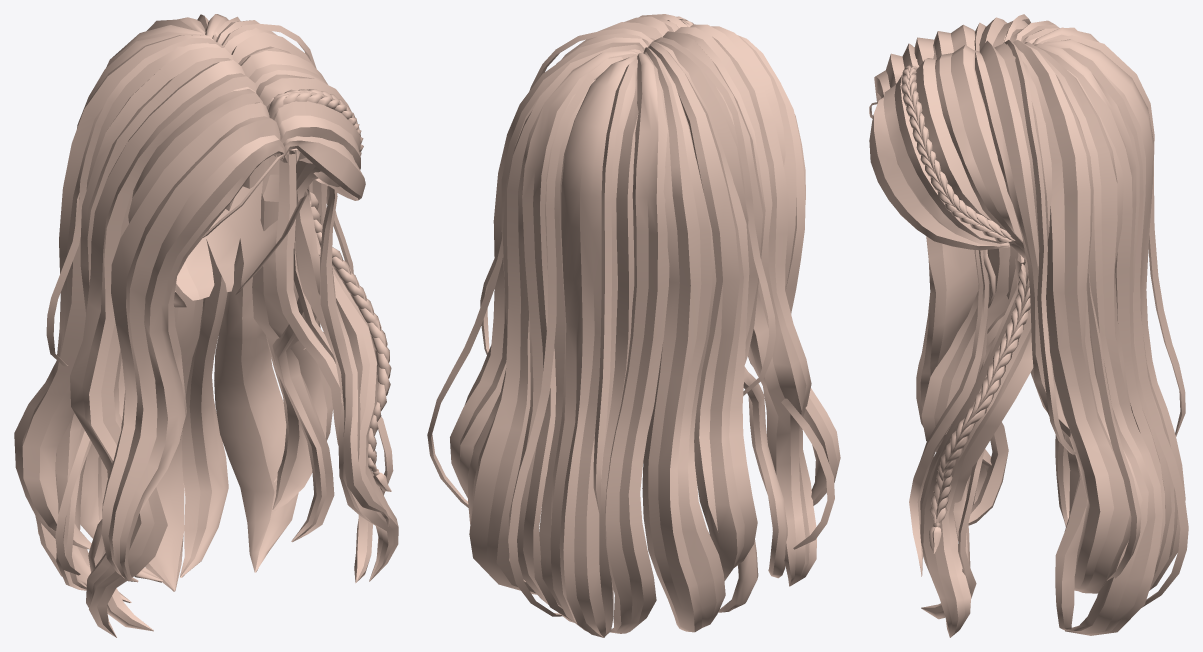
The model's file is Hair_06.fbx.
The picture shows the model from 3 angles, left to right: view 1: azimuth 30°, elevation 25°; view 2: azimuth 150°, elevation 25°; view 3: azimuth 270°, elevation 25°; orthographic projection. The views are drawn at different scales.
Parts seen in each view (by area): view 1: Hair_06; view 2: Hair_06; view 3: Hair_06.
Part boxes in pixels (x1,y1,x2,y2): Hair_06: (14,14,398,637); Hair_06: (427,14,840,637); Hair_06: (869,14,1188,637).
Bounding box in the file's own units: 3.07 × 5.05 × 2.5.
